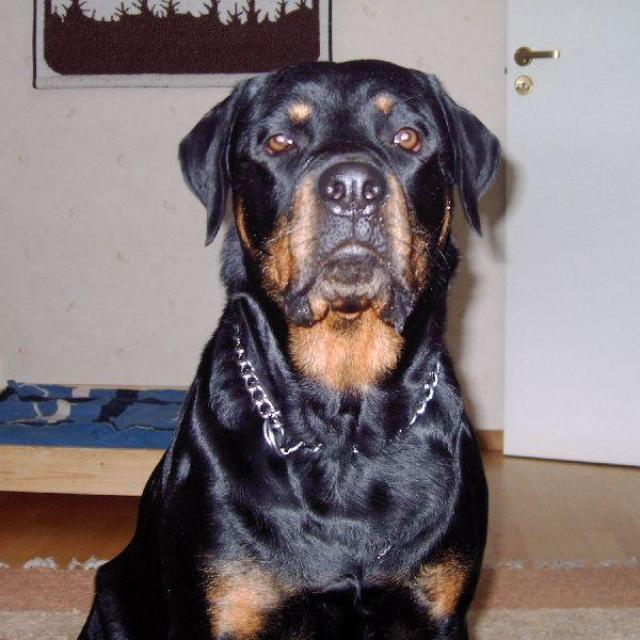rottweiler: (77, 58, 501, 639)
